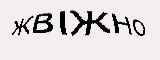І: (55, 8, 71, 36)
В: (32, 8, 54, 34)
Ж: (68, 6, 115, 35), (9, 14, 34, 37)
Н: (110, 9, 131, 36)
О: (132, 14, 146, 38)
